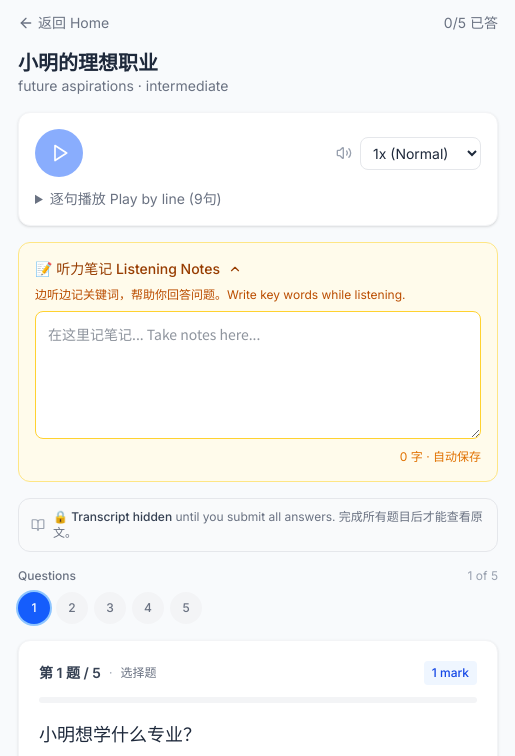
Test: PracticePage — full Q1→Q2→Q3→Finish flow › Finish button appears on the last question
// Jump to Q5 directly
Click the button named "go to question 5": [186, 608] box 170,592 -> 202,624
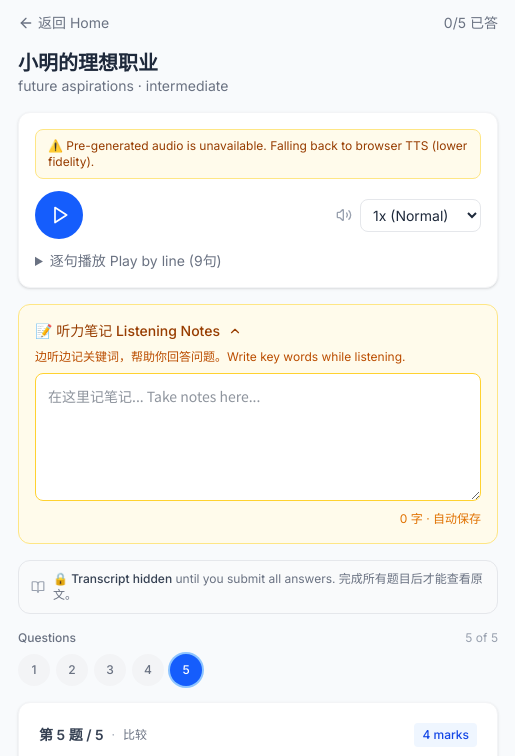
Result: the text "第 5 题 / 5" is shown at 39,725 -> 104,745
